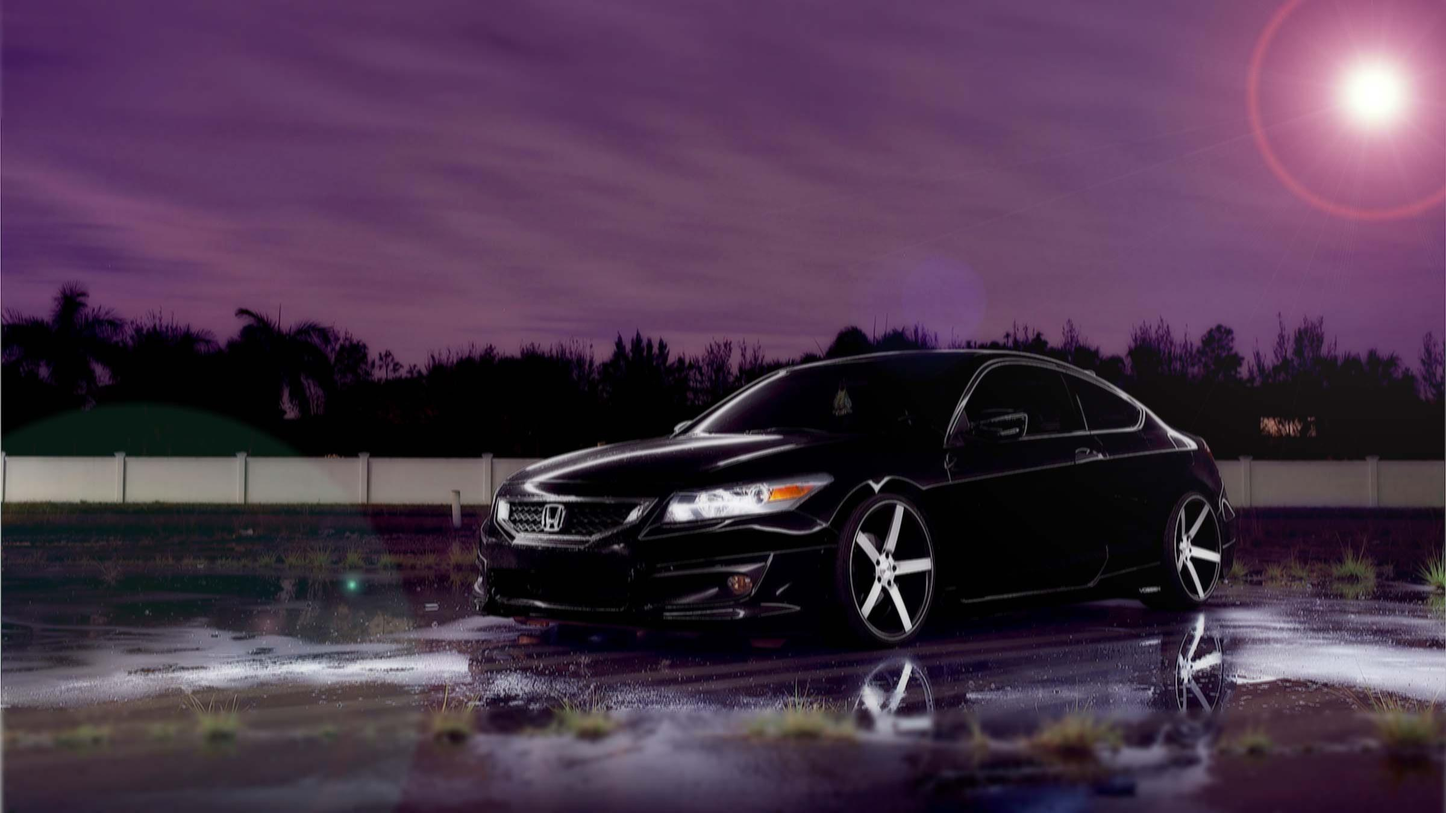Car hood: (494, 425, 927, 508)
Fender - -F-L-: (835, 469, 935, 527)
Fender - -R-L-: (1156, 465, 1221, 525)
Front bumper: (465, 510, 828, 625)
Headlight - -L-: (661, 471, 835, 543)
Passenger-s door - -F-L-: (942, 349, 1124, 632)
Rear bumper: (1200, 481, 1247, 592)
Rear light - -L-: (1192, 433, 1229, 492)
Side bumper - -L-: (950, 537, 1171, 630)
Side mirror - -L-: (968, 413, 1030, 451)
